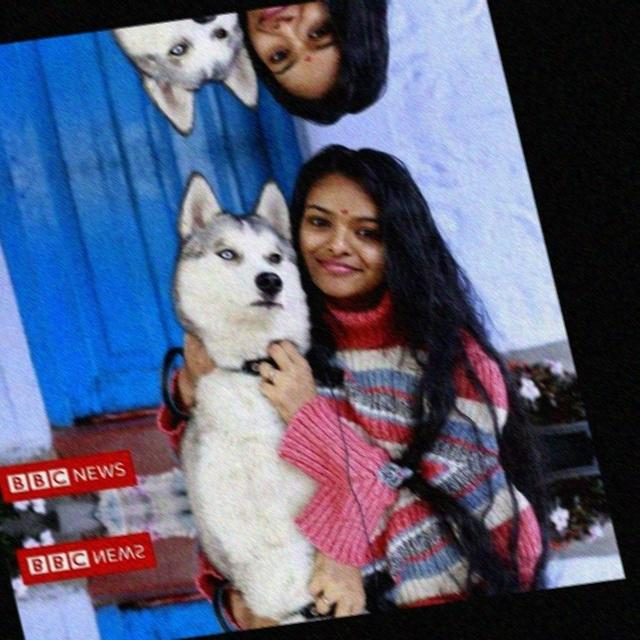dog: (146, 154, 326, 370), (111, 12, 272, 148), (255, 607, 388, 629)
